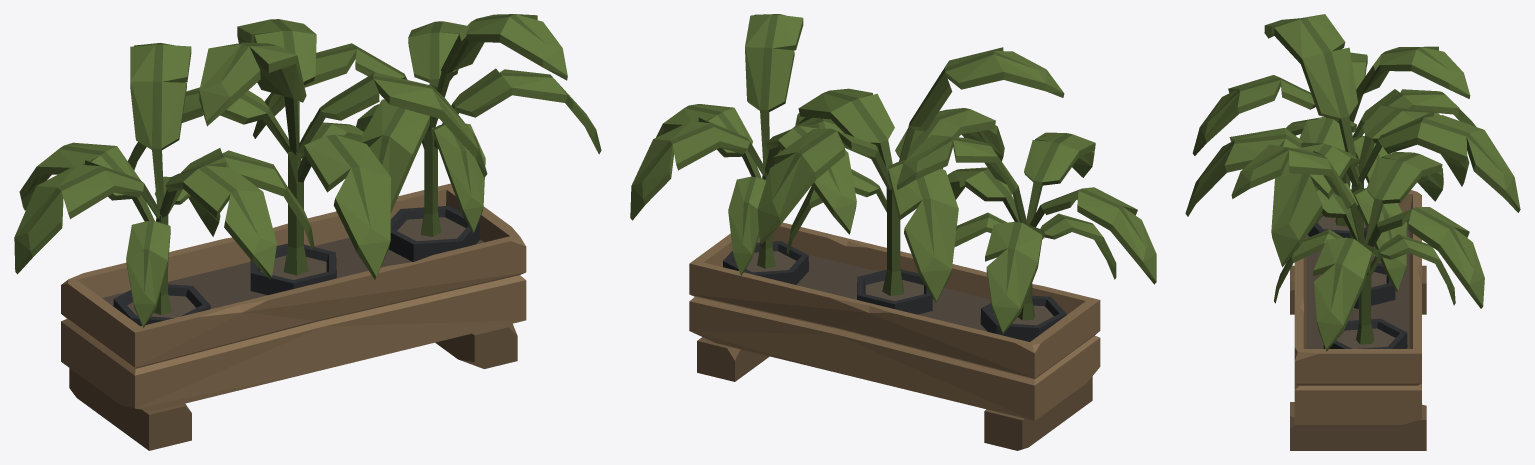
The model's file is Planter.obj.
3 renders of one model, left to right at view 1: azimuth 30°, elevation 25°; view 2: azimuth 150°, elevation 25°; view 3: azimuth 270°, elevation 25°, orthographic. The views are drawn at different scales.
Visible parts, largest first — view 1: Planter; view 2: Planter; view 3: Planter.
Boxes of the visible parts, left/top/right/bottom form: Planter: left=14, top=14, right=601, bottom=450; Planter: left=630, top=14, right=1156, bottom=450; Planter: left=1185, top=14, right=1520, bottom=450.
Size of the model in its own units: 2.42 by 1.5 by 1.42.
Materials: 1 (1 with a texture image).
